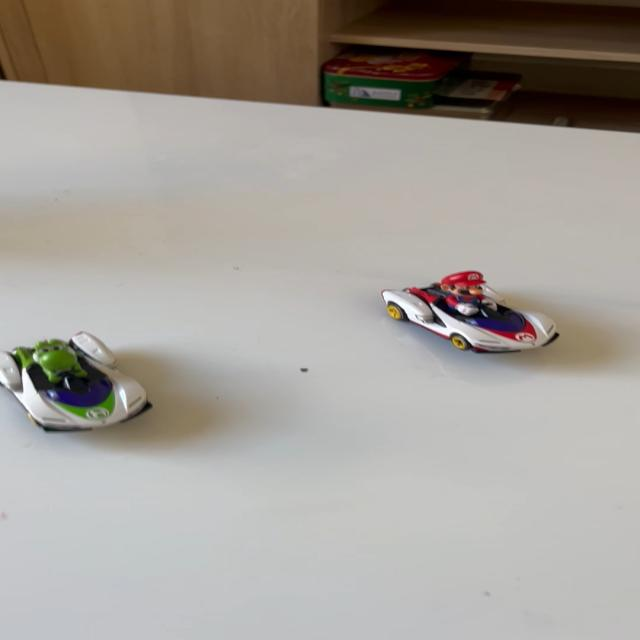mario: (363, 260, 583, 362)
yoshi: (0, 321, 178, 440)
